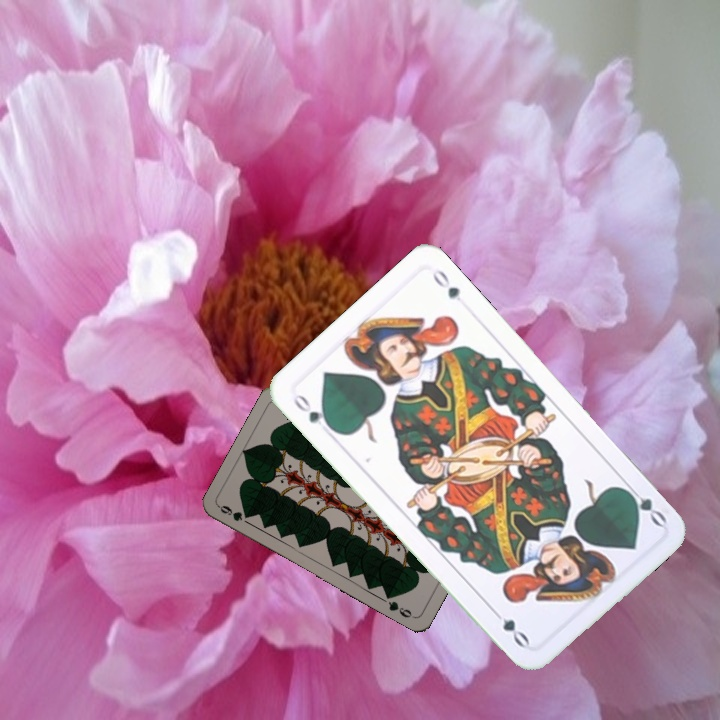G9: (215, 501, 252, 524)
GO: (619, 479, 669, 529), (289, 390, 337, 434)
